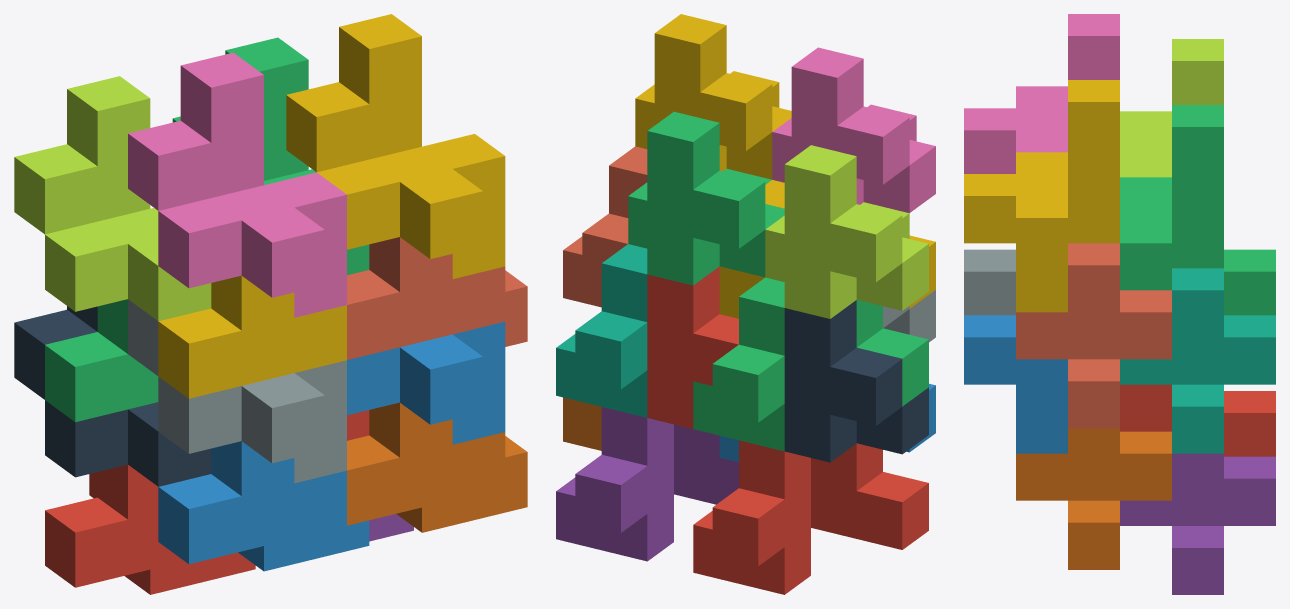
Rendered from tiling.obj.
3 views of the same model, side by side, from view 1: azimuth 30°, elevation 25°; view 2: azimuth 150°, elevation 25°; view 3: azimuth 270°, elevation 25° (orthographic). The views are drawn at different scales.
Visible parts, largest first — view 1: copy_2_domain_4, copy_2_domain_8, copy_2_domain_3, copy_1_domain_2, copy_1_domain_6, copy_2_domain_2, copy_1_domain_4, copy_1_domain_8, copy_1_domain_1, copy_2_domain_6, copy_2_domain_1, copy_1_domain_3 (+2 smaller); view 2: copy_1_domain_1, copy_2_domain_3, copy_2_domain_7, copy_1_domain_5, copy_2_domain_1, copy_2_domain_4, copy_1_domain_3, copy_2_domain_8, copy_1_domain_7, copy_2_domain_5, copy_1_domain_8, copy_1_domain_4 (+3 smaller); view 3: copy_2_domain_8, copy_1_domain_8, copy_1_domain_7, copy_2_domain_7, copy_1_domain_6, copy_1_domain_5, copy_2_domain_4, copy_2_domain_6, copy_2_domain_3, copy_1_domain_3, copy_2_domain_2, copy_1_domain_1 (+1 smaller).
Boxes of the visible parts, x1=… form: copy_2_domain_4: x1=128, y1=52, x2=346, y2=317; copy_2_domain_8: x1=286, y1=14, x2=505, y2=278; copy_2_domain_3: x1=14, y1=76, x2=211, y2=321; copy_1_domain_2: x1=158, y1=441, x2=369, y2=571; copy_1_domain_6: x1=347, y1=402, x2=527, y2=532; copy_2_domain_2: x1=128, y1=299, x2=346, y2=483; copy_1_domain_4: x1=158, y1=275, x2=346, y2=398; copy_1_domain_8: x1=347, y1=237, x2=527, y2=359; copy_1_domain_1: x1=45, y1=464, x2=255, y2=594; copy_2_domain_6: x1=347, y1=321, x2=505, y2=444; copy_2_domain_1: x1=14, y1=306, x2=211, y2=486; copy_1_domain_3: x1=45, y1=299, x2=158, y2=422; copy_1_domain_1: x1=693, y1=440, x2=928, y2=594; copy_2_domain_3: x1=765, y1=145, x2=928, y2=318; copy_2_domain_7: x1=628, y1=111, x2=784, y2=285; copy_1_domain_5: x1=556, y1=407, x2=738, y2=561; copy_2_domain_1: x1=784, y1=300, x2=928, y2=462; copy_2_domain_4: x1=772, y1=47, x2=935, y2=213; copy_1_domain_3: x1=693, y1=277, x2=928, y2=451; copy_2_domain_8: x1=635, y1=14, x2=791, y2=179; copy_1_domain_7: x1=556, y1=244, x2=647, y2=417; copy_2_domain_5: x1=647, y1=266, x2=738, y2=428; copy_1_domain_8: x1=563, y1=146, x2=647, y2=307; copy_1_domain_4: x1=719, y1=180, x2=935, y2=318; copy_2_domain_8: x1=964, y1=80, x2=1119, y2=312; copy_1_domain_8: x1=1016, y1=243, x2=1171, y2=428; copy_1_domain_7: x1=1120, y1=268, x2=1275, y2=453; copy_2_domain_7: x1=1120, y1=105, x2=1223, y2=290; copy_1_domain_6: x1=1016, y1=428, x2=1171, y2=569; copy_1_domain_5: x1=1120, y1=453, x2=1275, y2=594; copy_2_domain_4: x1=964, y1=14, x2=1119, y2=173; copy_2_domain_6: x1=964, y1=315, x2=1067, y2=453; copy_2_domain_3: x1=1120, y1=39, x2=1223, y2=177; copy_1_domain_3: x1=1224, y1=249, x2=1275, y2=315; copy_2_domain_2: x1=964, y1=249, x2=1015, y2=315; copy_1_domain_1: x1=1224, y1=391, x2=1275, y2=456.
Size of the model in its own units: 8 by 10 by 6.
